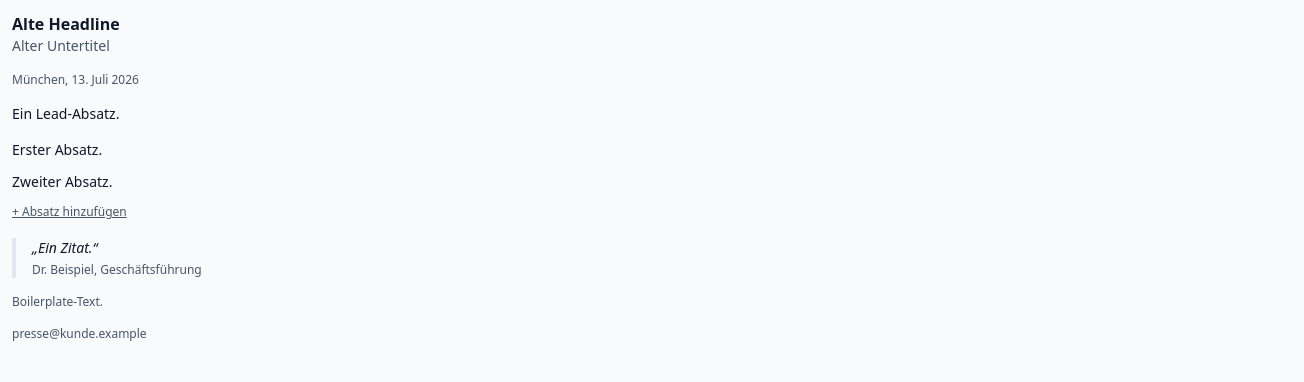
Test: PressemitteilungEditor -- Optimistic UI und Rollback › rollt bei einer fehlgeschlagenen Server-Action auf den vorherigen Wert zurück und zeigt einen Retry-Hinweis
Press Enter in the button with aria-label "Überschrift", box [12,12,1292,36]
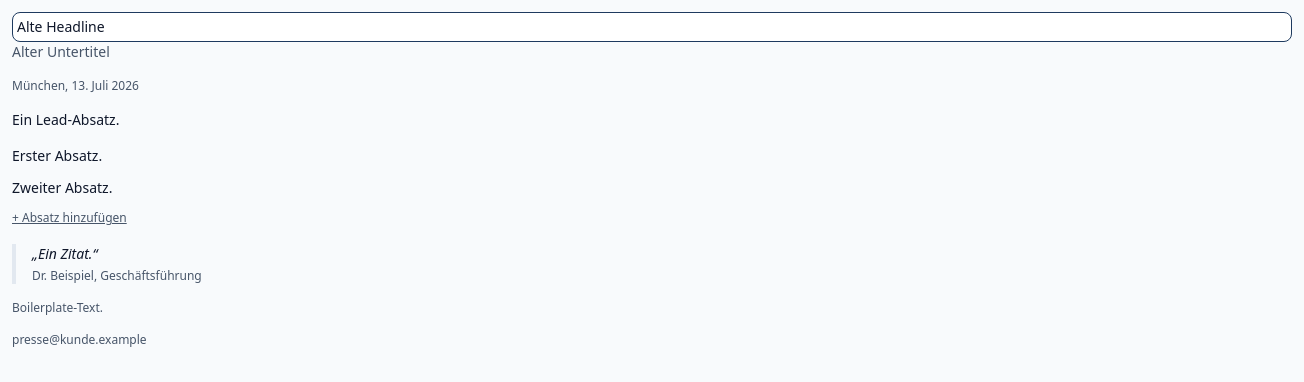
Replace the text in the field named "Überschrift" with "Neue Headline" at (652, 27), box [12,12,1292,42]
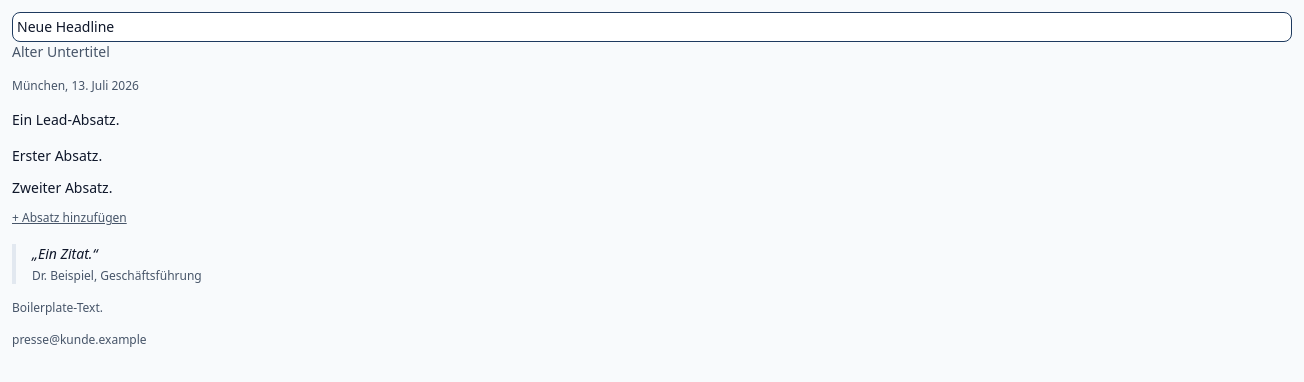
Press Enter in the field named "Überschrift", box [12,12,1292,42]
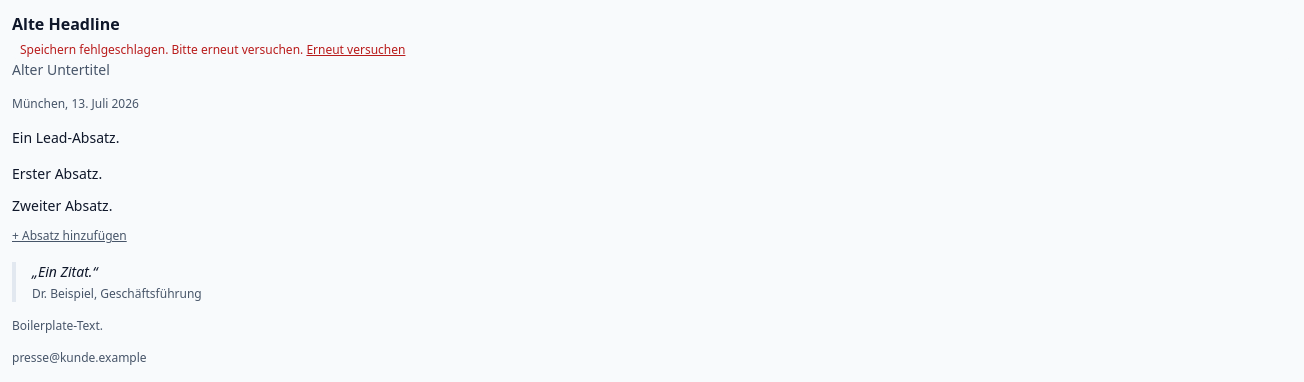
Result: the message "Speichern fehlgeschlagen. Bitte erneut versuchen. Erneut versuchen" is shown at [20,41,405,58]
Result: the heading "Alte Headline" is shown at [12,13,120,35]
Result: the message shows "Speichern fehlgeschlagen" at [20,41,303,58]
